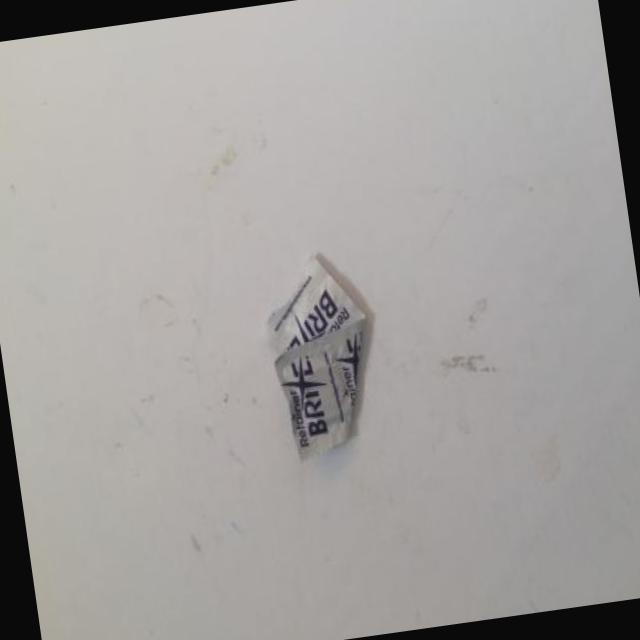Trash: (244, 230, 412, 463)
